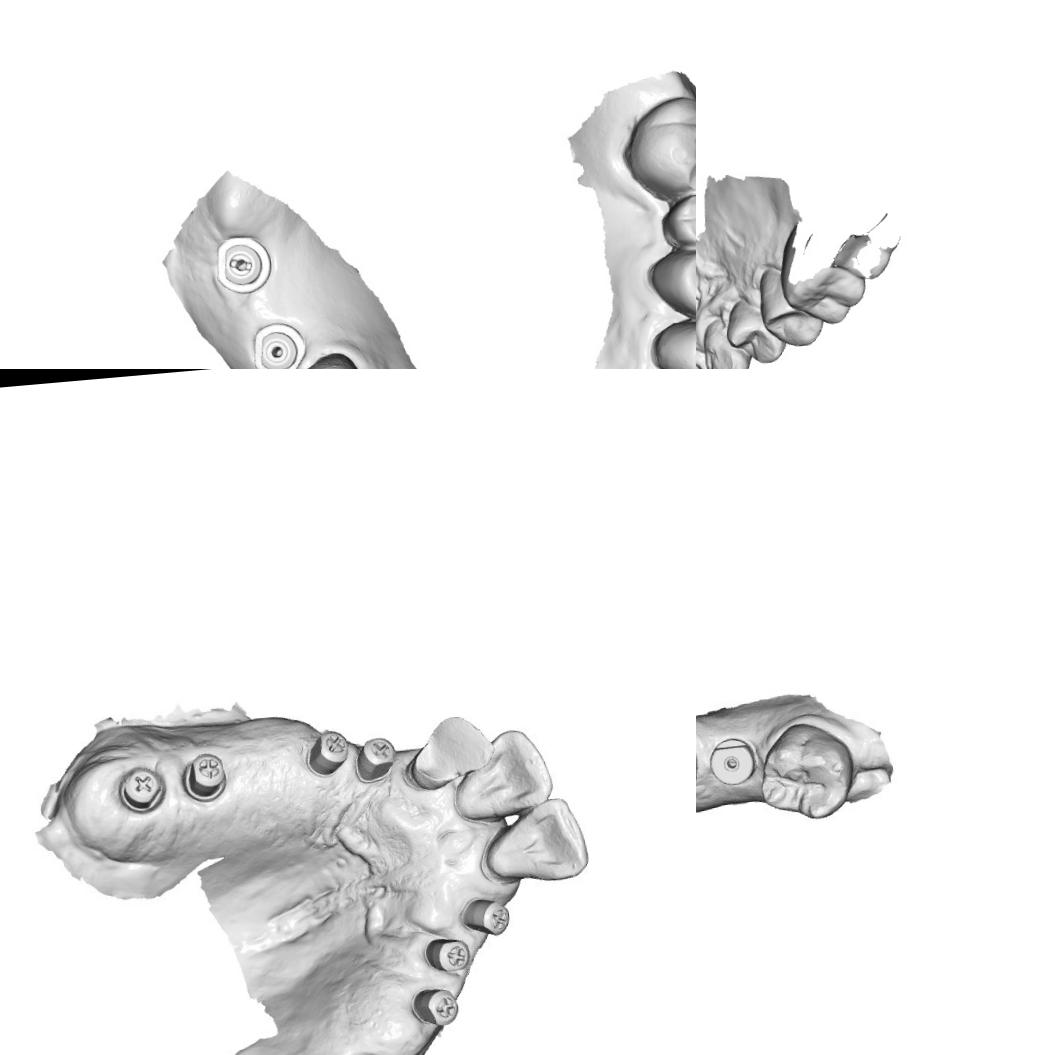canine: (697, 313, 756, 369)
implant: (708, 730, 756, 796), (247, 323, 305, 369)
implant_minus: (207, 236, 270, 296)
implant_plus: (344, 730, 402, 788), (115, 760, 170, 818), (302, 721, 354, 779), (180, 748, 230, 807), (411, 979, 462, 1035), (418, 928, 472, 980), (460, 892, 510, 938)
incisor: (451, 728, 557, 815), (479, 800, 587, 884), (414, 714, 492, 788)
molar: (754, 719, 855, 825), (620, 88, 696, 205), (657, 192, 696, 257)
premolar: (756, 262, 826, 351), (722, 294, 788, 368), (646, 242, 696, 327), (649, 309, 696, 369)
